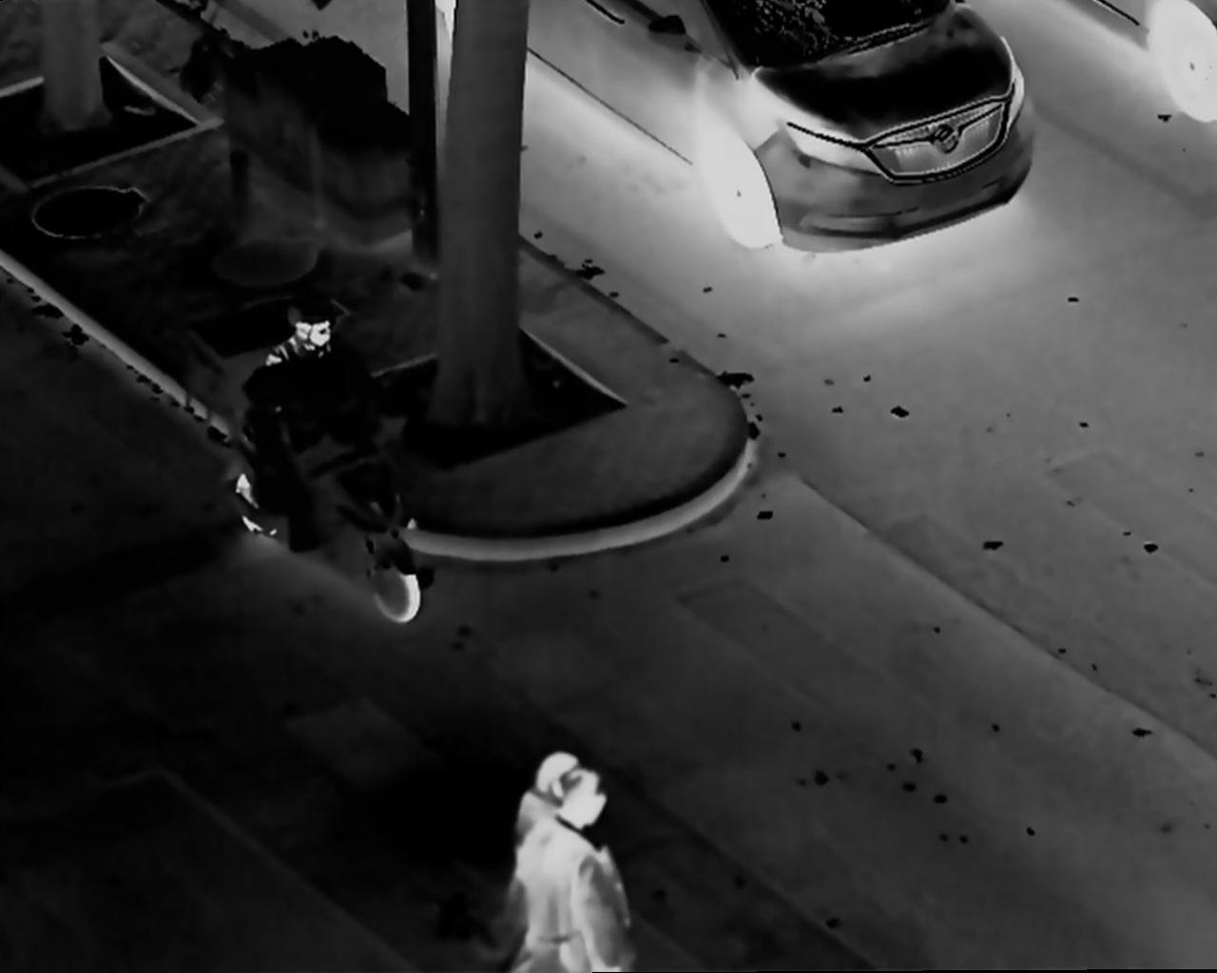person: (512, 766, 644, 973), (241, 296, 345, 552), (498, 754, 594, 963)
